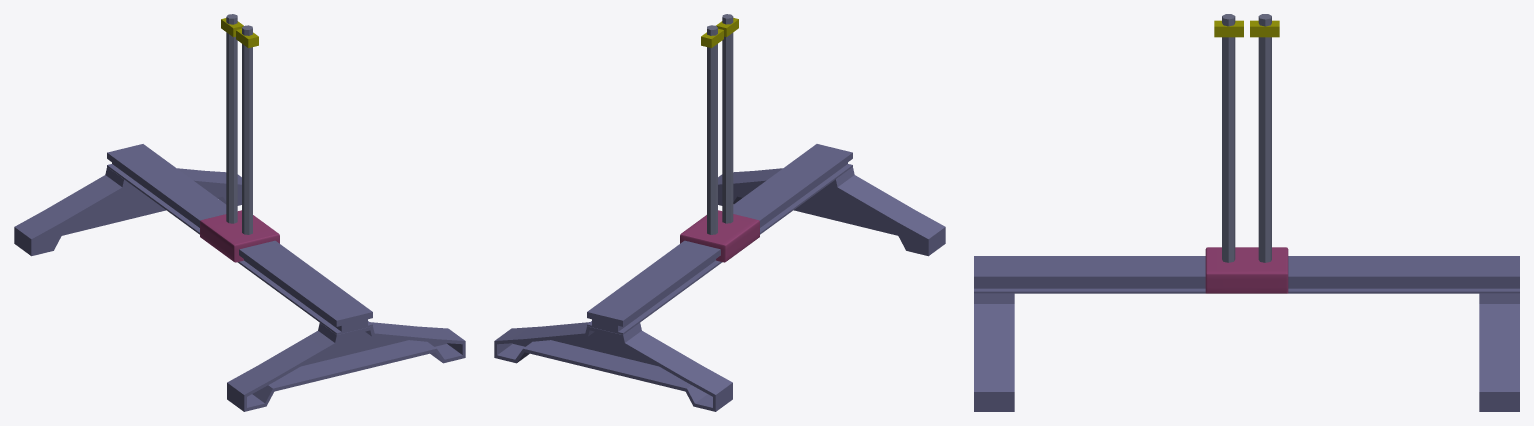
File: ppCap.glb
3 views of the same model, side by side, from view 1: azimuth 30°, elevation 25°; view 2: azimuth 150°, elevation 25°; view 3: azimuth 270°, elevation 25° (orthographic). The views are drawn at different scales.
Parts seen in each view (by area): view 1: base, shaft, polySurface5, polySurface1, standLeftBase, standRightBase; view 2: base, shaft, polySurface1, polySurface5, standRightBase, standLeftBase; view 3: shaft, base, polySurface5, polySurface1, standLeftBase, standRightBase.
Boxes of the visible parts, x1,y1,x2,y2 form: base: (14, 167, 465, 411); shaft: (107, 144, 372, 334); polySurface5: (226, 14, 237, 223); polySurface1: (242, 25, 252, 234); standLeftBase: (216, 221, 279, 262); standRightBase: (200, 210, 261, 248); base: (494, 167, 945, 411); shaft: (587, 144, 852, 334); polySurface1: (722, 14, 733, 223); polySurface5: (707, 25, 717, 234); standRightBase: (680, 221, 743, 262); standLeftBase: (698, 210, 759, 248); shaft: (974, 256, 1519, 293); base: (974, 293, 1519, 411); polySurface5: (1258, 14, 1271, 262); polySurface1: (1222, 14, 1235, 262); standLeftBase: (1205, 247, 1246, 293); standRightBase: (1247, 247, 1288, 293).
Size of the model in its own units: 117 by 141 by 210.
